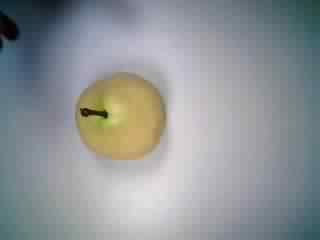pear: (66, 59, 171, 167)
